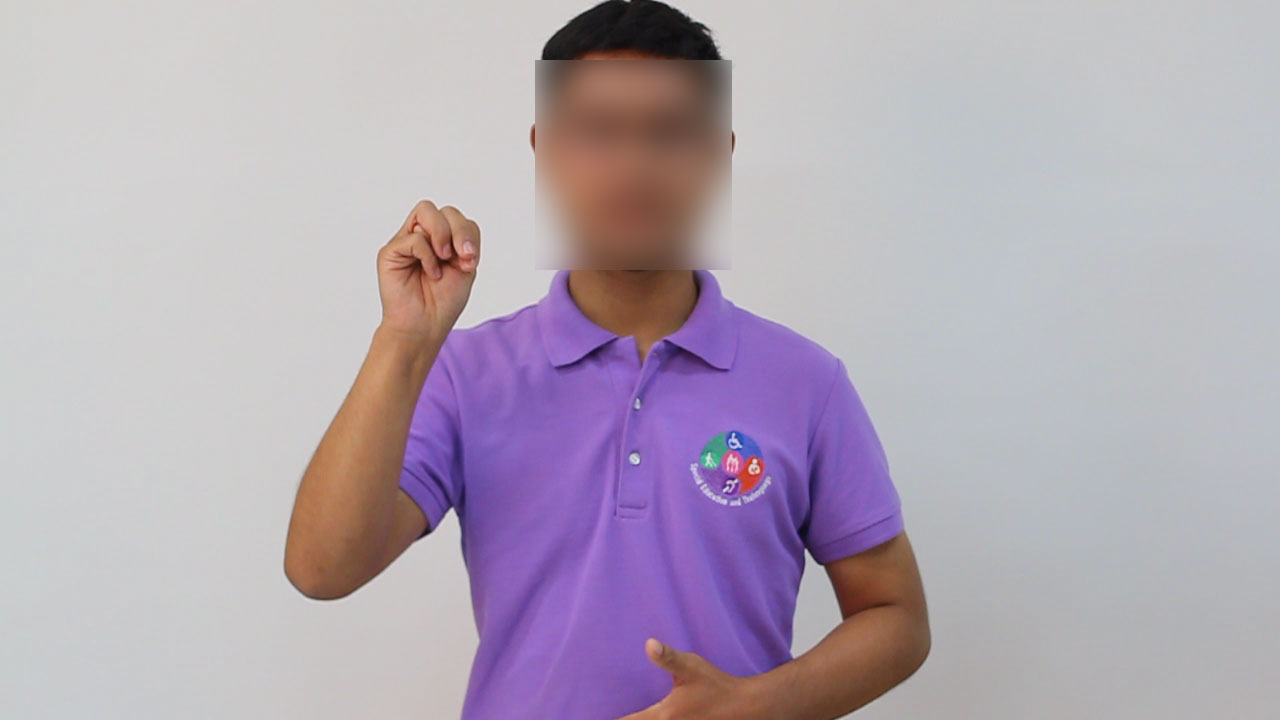mor: (370, 184, 490, 351)
